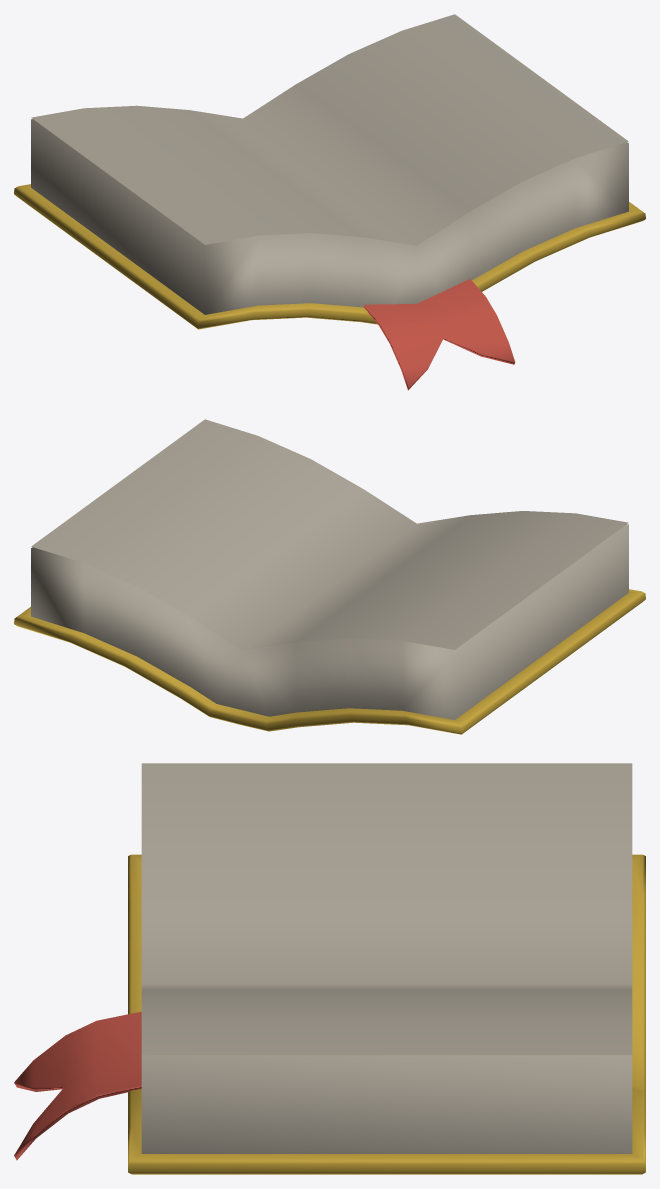
The model's file is BookOpen_v2.1.fbx.
The picture shows the model from 3 angles, top to bottom: view 1: azimuth 30°, elevation 25°; view 2: azimuth 150°, elevation 25°; view 3: azimuth 270°, elevation 25°; orthographic projection. The views are drawn at different scales.
Parts seen in each view (by area): view 1: Page, Cover, Ribbon; view 2: Page, Cover; view 3: Page, Cover, Ribbon.
Boxes of the visible parts, x1,y1,x2,y2 form: Page: [31, 14, 628, 245]; Cover: [14, 119, 645, 329]; Ribbon: [364, 279, 515, 390]; Page: [31, 419, 628, 650]; Cover: [14, 524, 645, 734]; Page: [141, 763, 632, 1055]; Cover: [128, 854, 645, 1174]; Ribbon: [14, 1011, 141, 1160].
Bounding box in the file's own units: 4.23 × 1.37 × 3.66.
